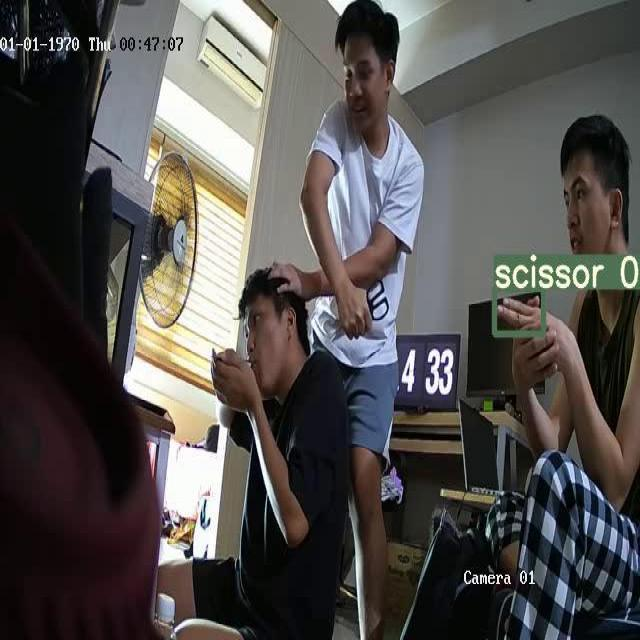scissor: (331, 277, 391, 341)
